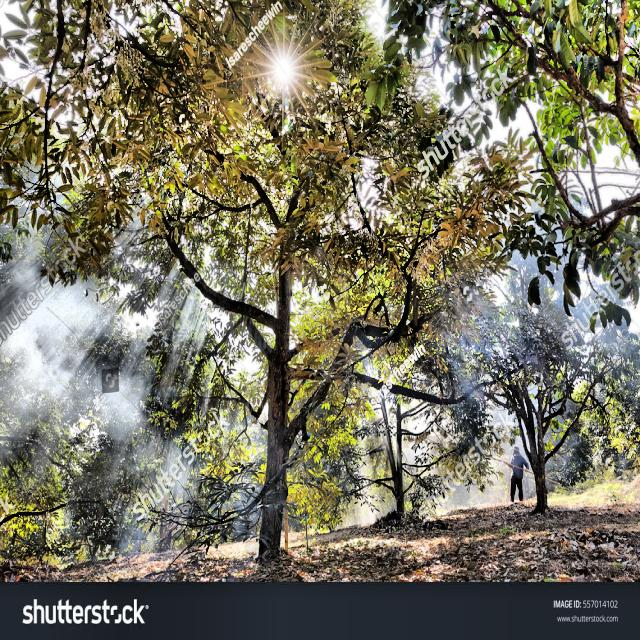arvore: (248, 162, 294, 575), (503, 358, 561, 522), (383, 381, 421, 545)
